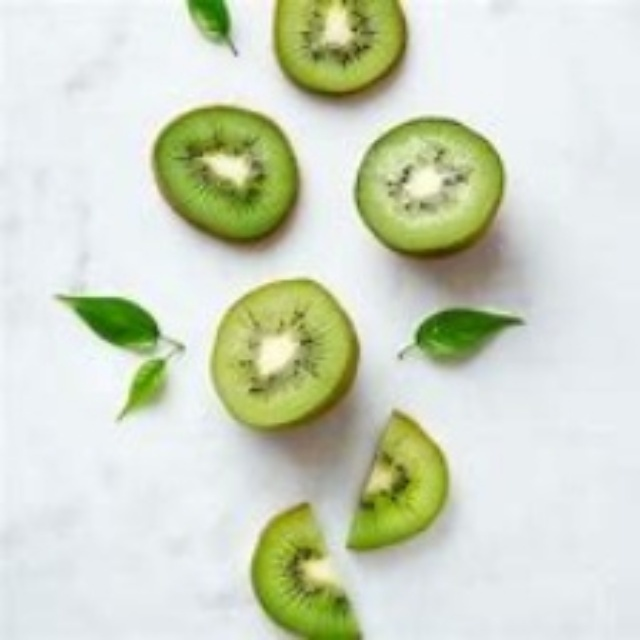kiwi: (208, 277, 364, 431), (353, 120, 509, 260), (151, 105, 299, 240), (236, 502, 370, 639), (345, 414, 457, 562), (267, 2, 418, 96)
